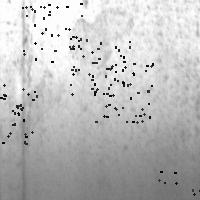pitted_surface: (52, 5, 200, 192), (10, 12, 38, 198), (92, 63, 152, 121), (22, 3, 81, 61), (70, 38, 129, 93), (0, 84, 36, 143), (158, 171, 200, 200)
